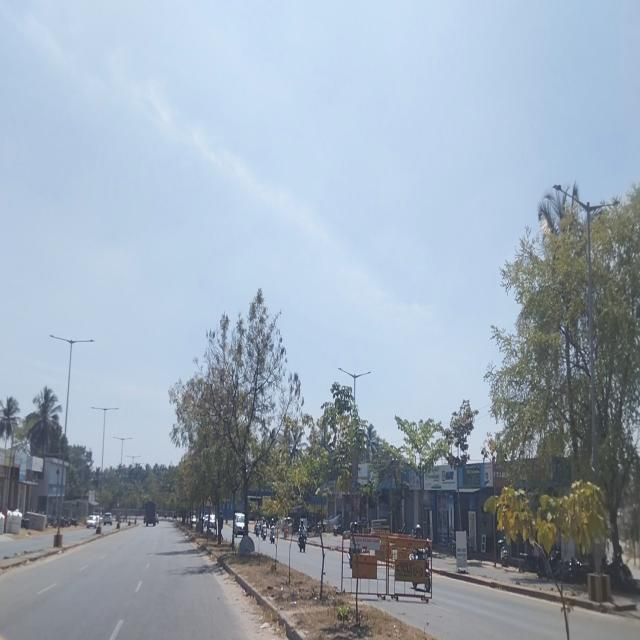bien_cam: (205, 493, 213, 509)
